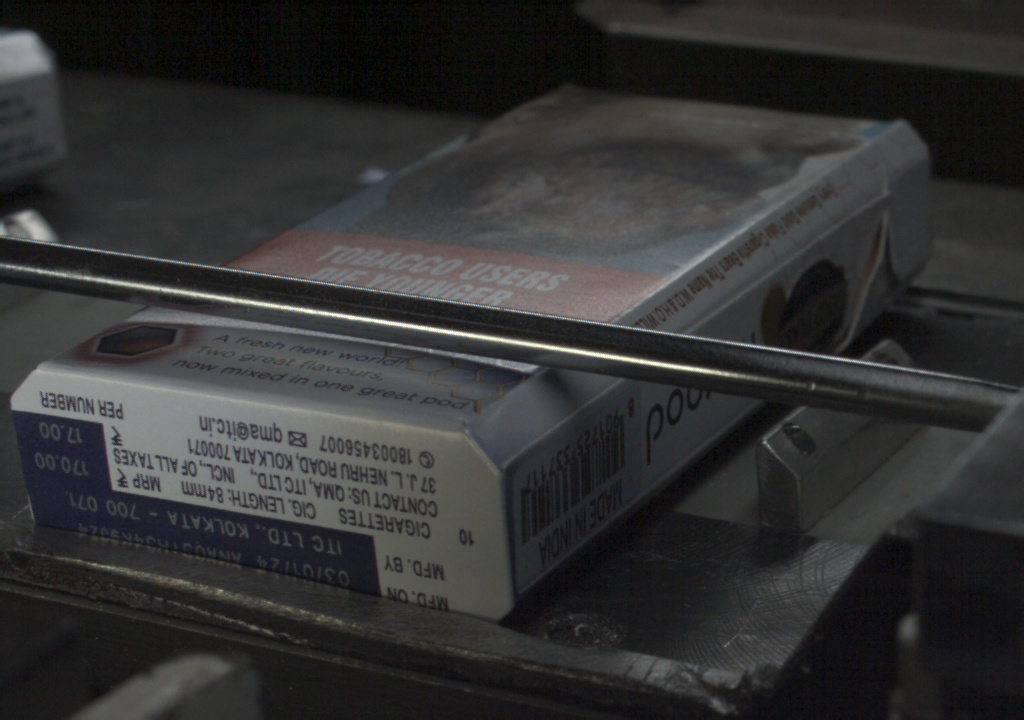g_bottom: (12, 369, 500, 631)
g_label: (26, 487, 381, 596)
g_lmiter: (685, 262, 780, 334), (783, 194, 879, 258), (558, 378, 616, 426), (496, 425, 555, 465)
price: (17, 419, 107, 487)
